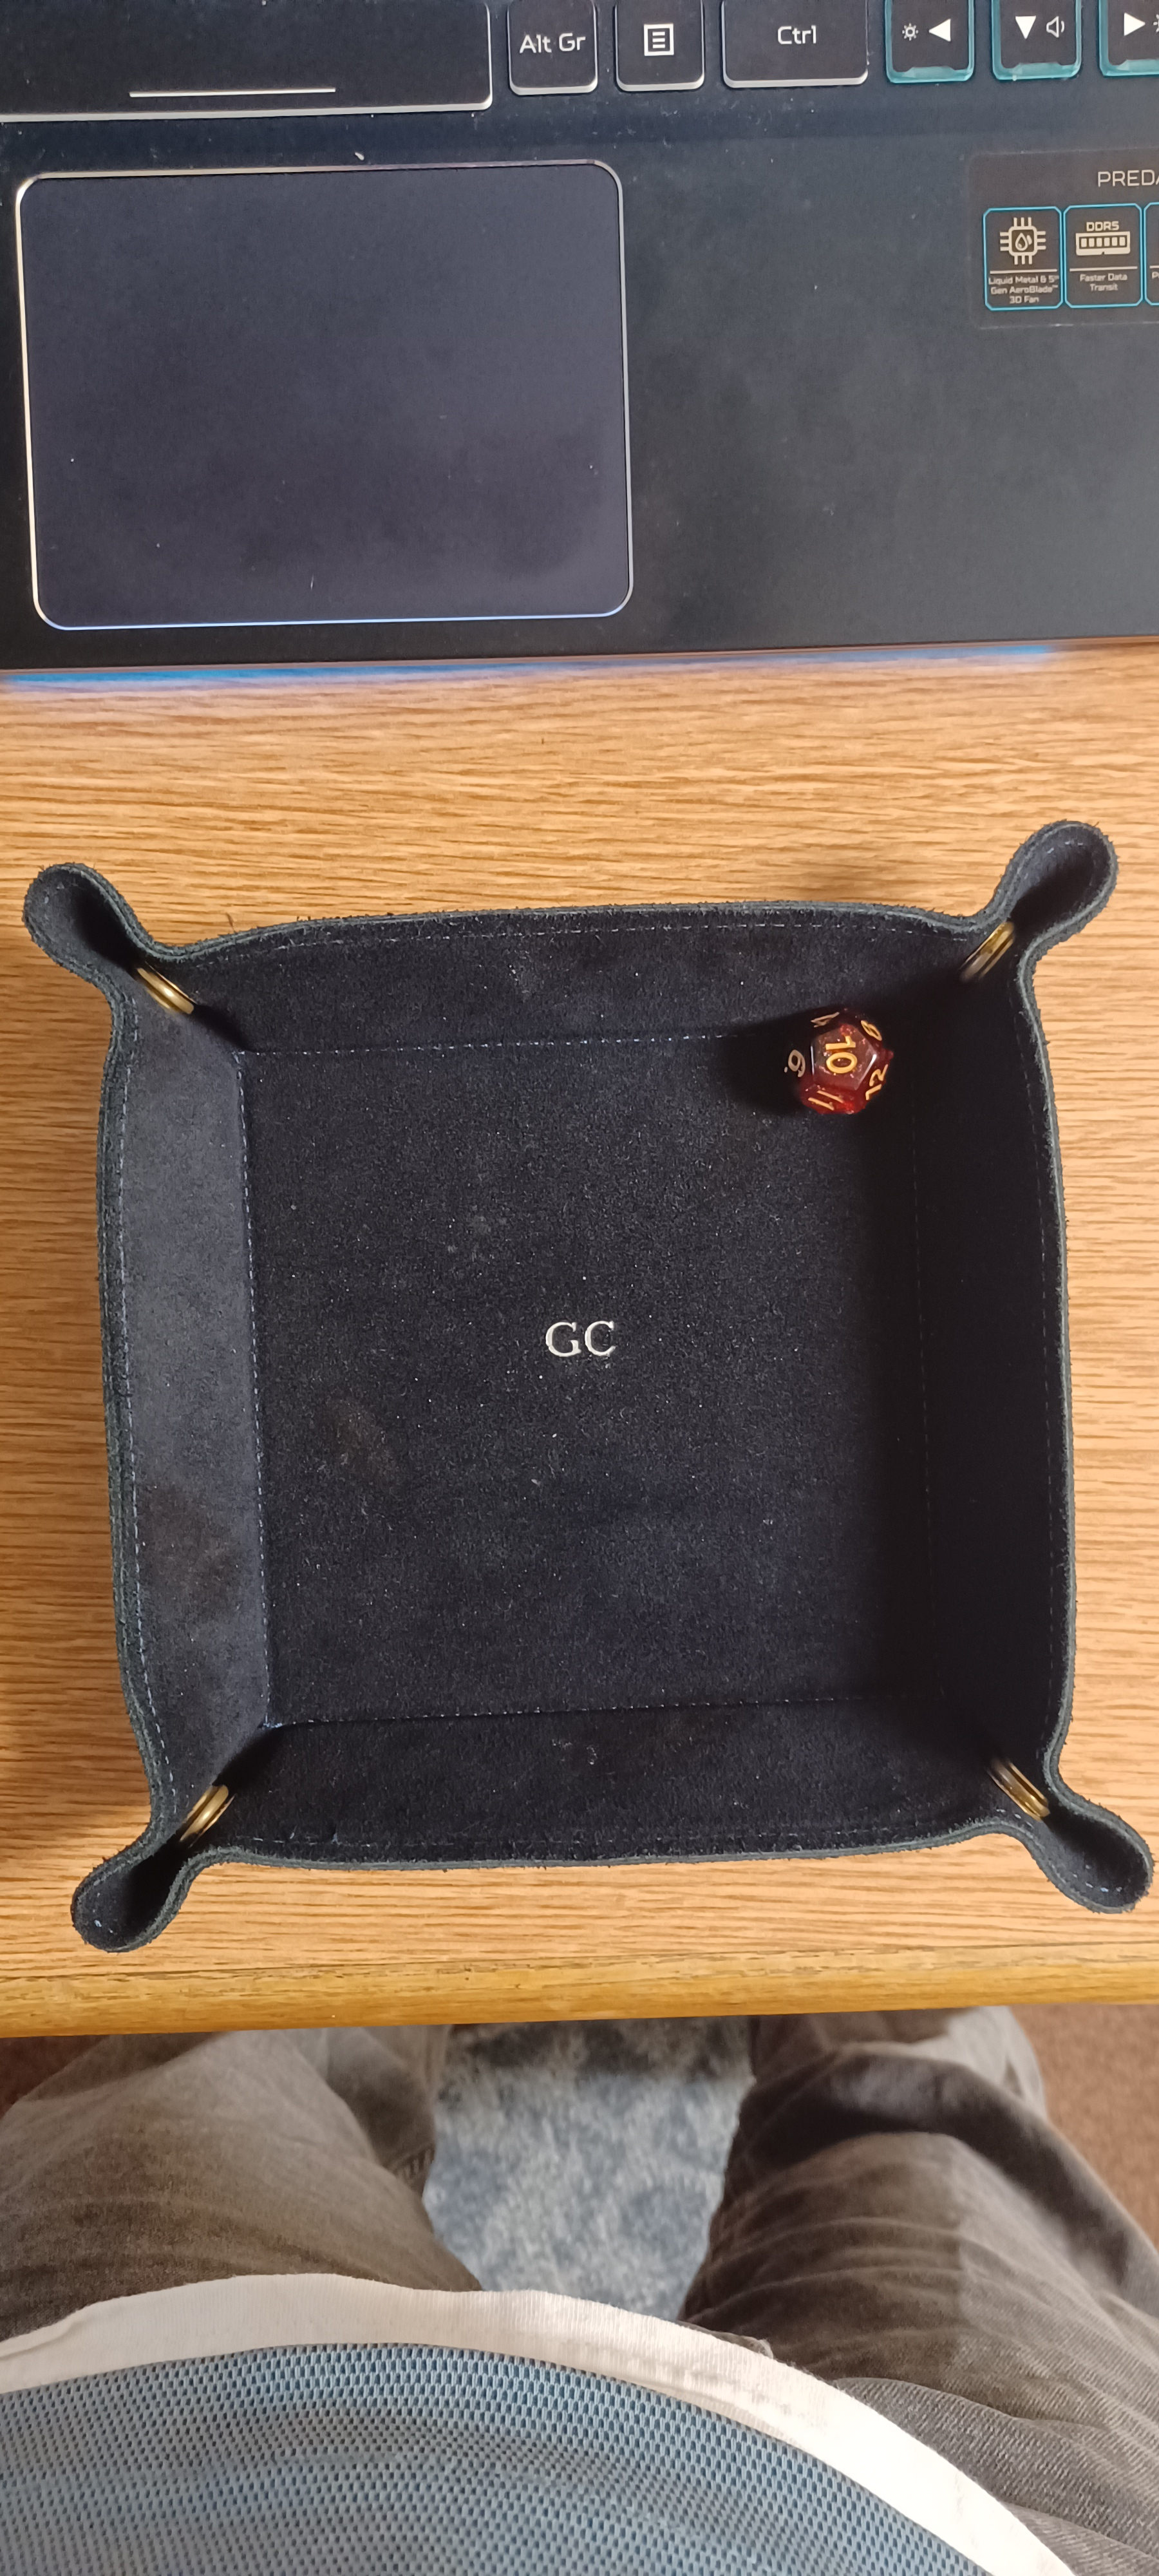ten: (765, 996, 914, 1135)
